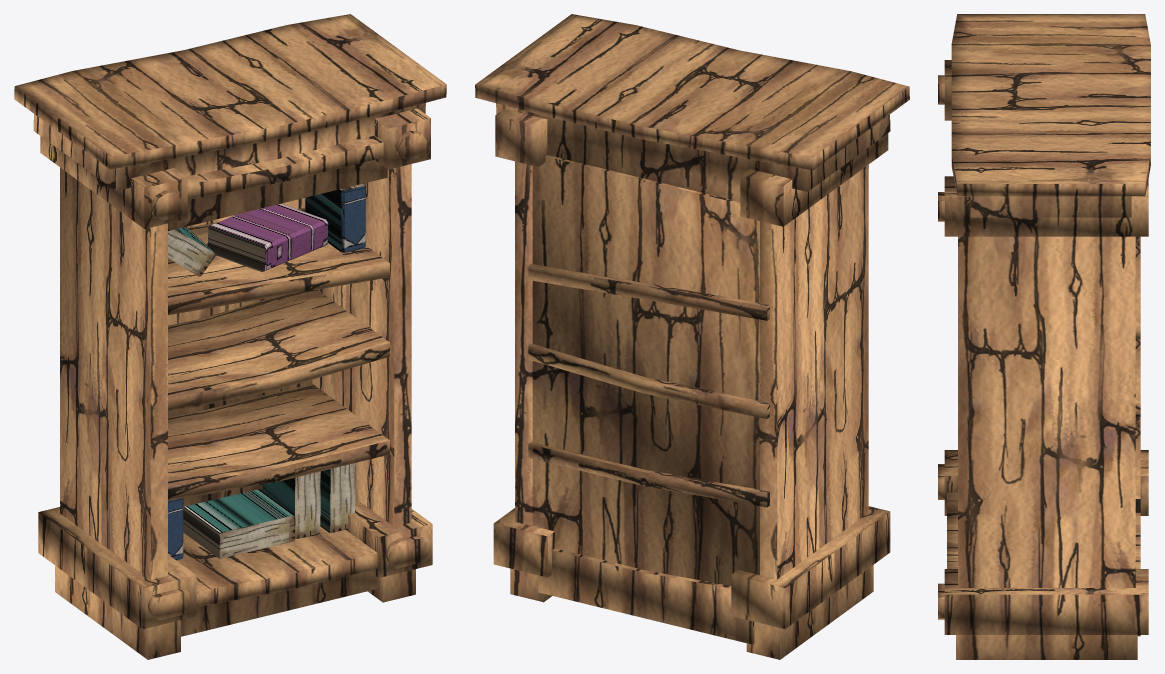
File: open_shelf.glb
3 views of the same model, side by side, from view 1: azimuth 30°, elevation 25°; view 2: azimuth 150°, elevation 25°; view 3: azimuth 270°, elevation 25° (orthographic). The views are drawn at different scales.
Visible parts, largest first — view 1: Open Shelf; view 2: Open Shelf; view 3: Open Shelf.
Boxes of the visible parts, bbox=[...] form: Open Shelf: bbox=[14, 14, 446, 659]; Open Shelf: bbox=[475, 14, 909, 659]; Open Shelf: bbox=[938, 14, 1150, 659].
Bounding box in the file's own units: 0.8867 × 1.29 × 0.4965.
Materials: 2 (2 with a texture image).
